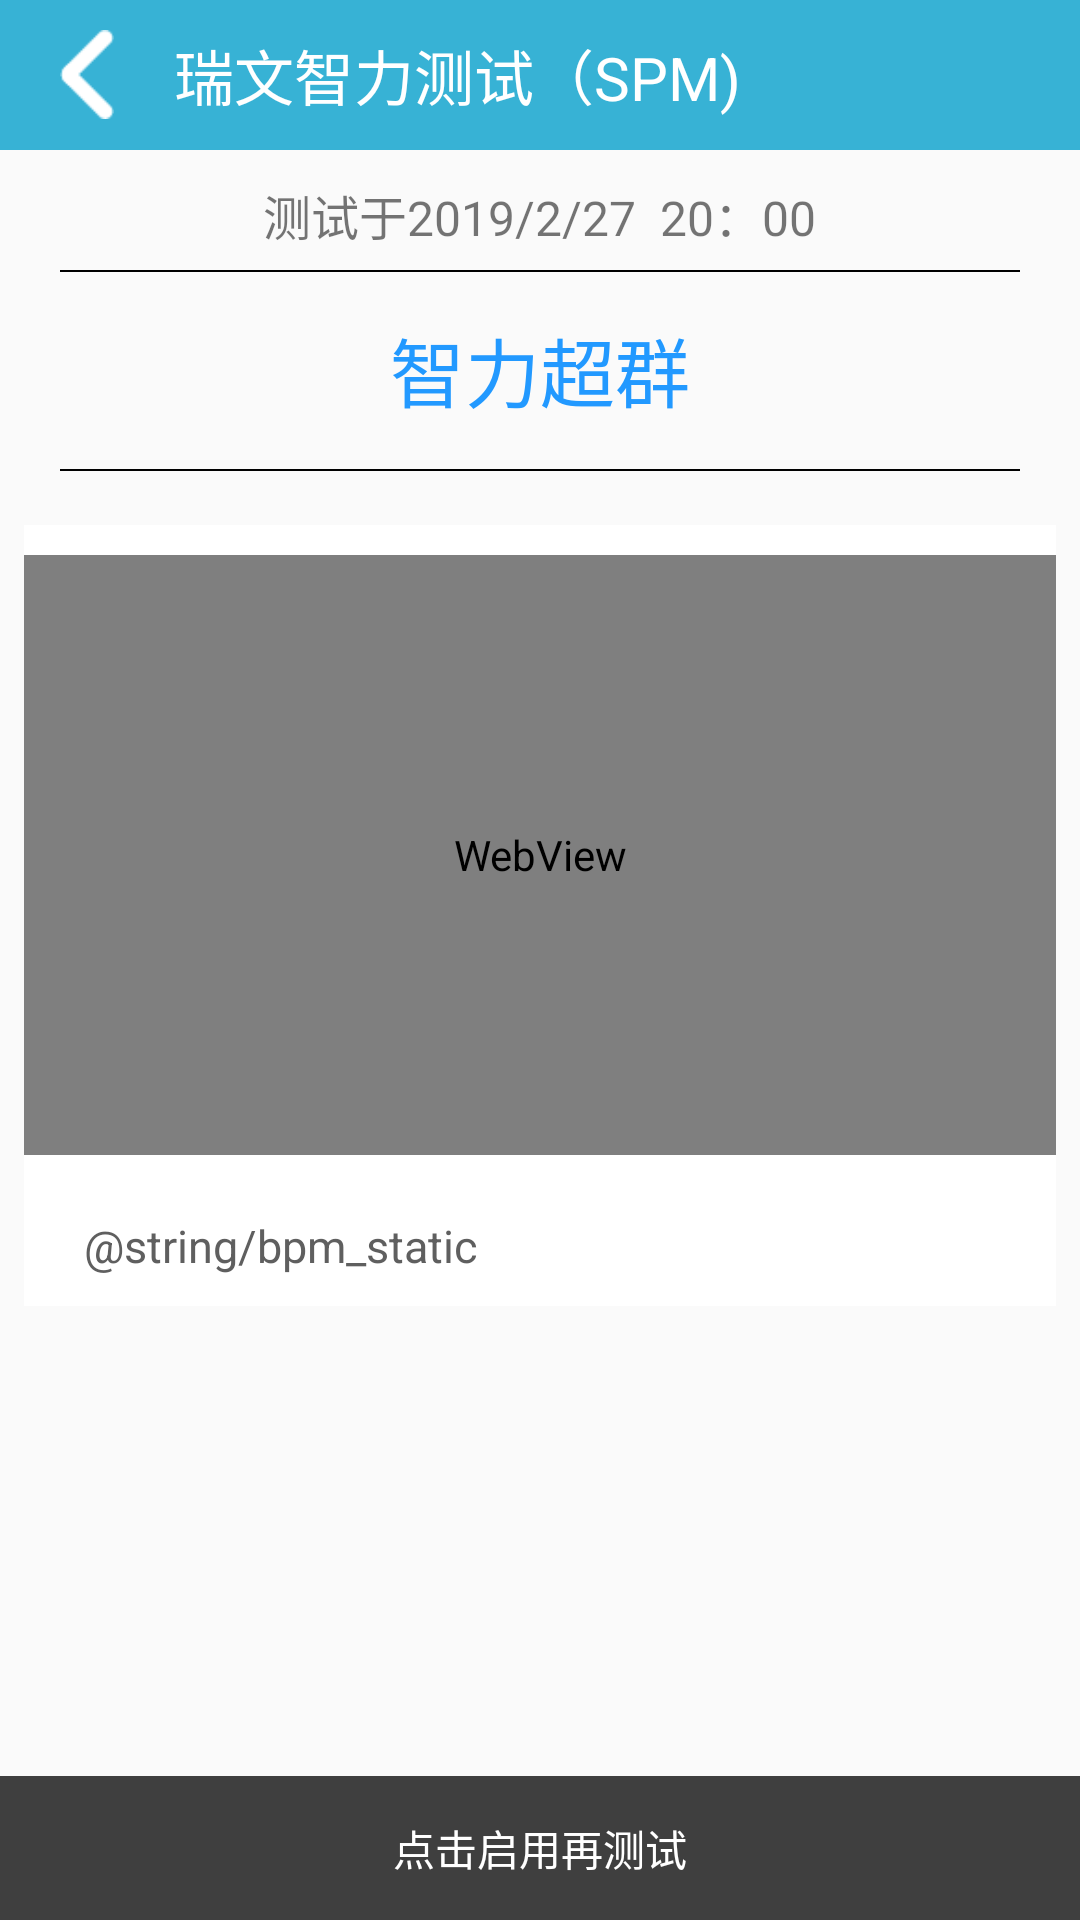

Icon click points for this 1080 × 1920 phone screenshot, format [x,y]:
fanhui: [87,74]
